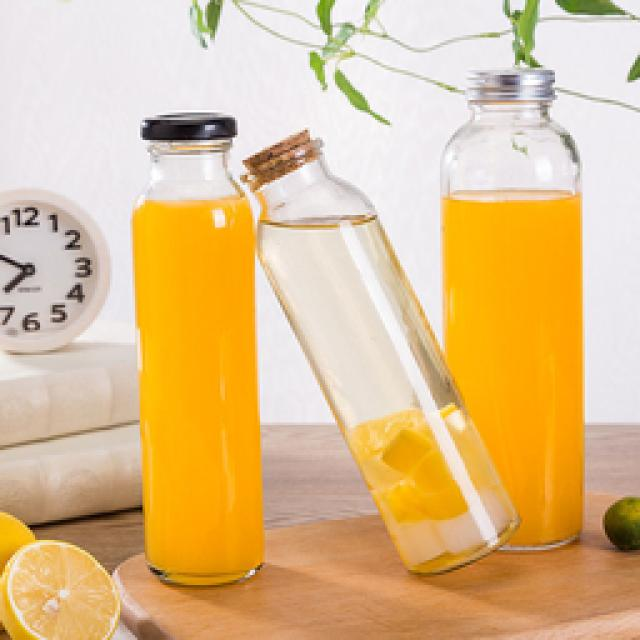glass_beverage_bottles: (245, 145, 520, 578), (442, 65, 585, 555), (135, 111, 267, 582)
